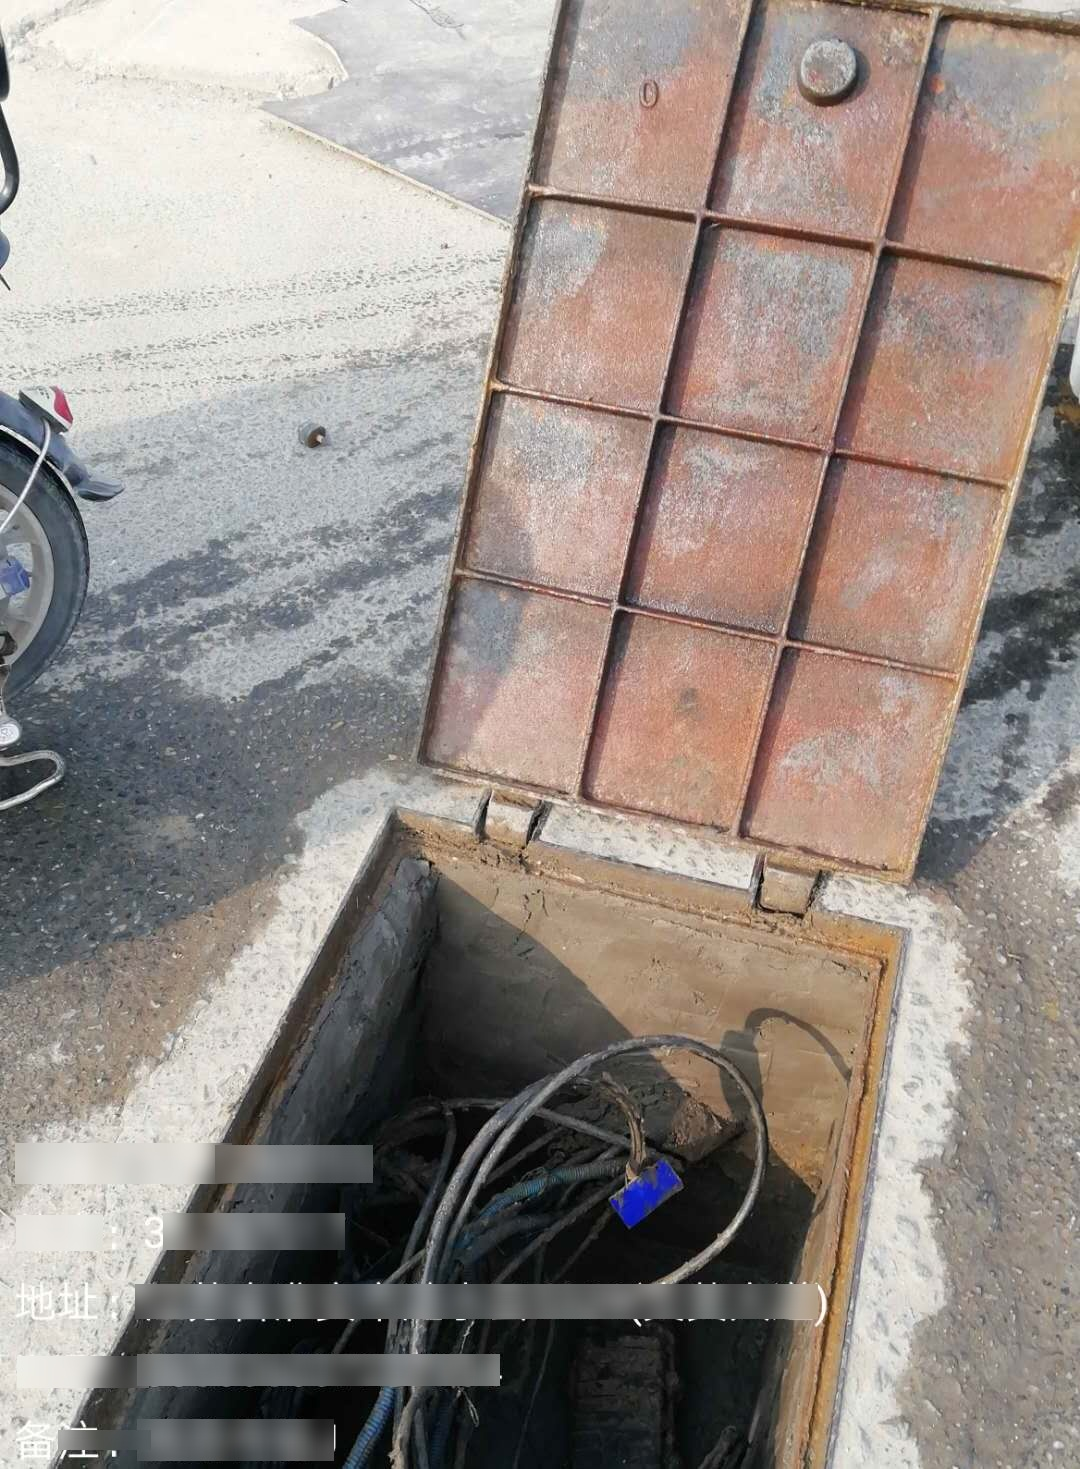uncovered: (15, 9, 1080, 1447)
